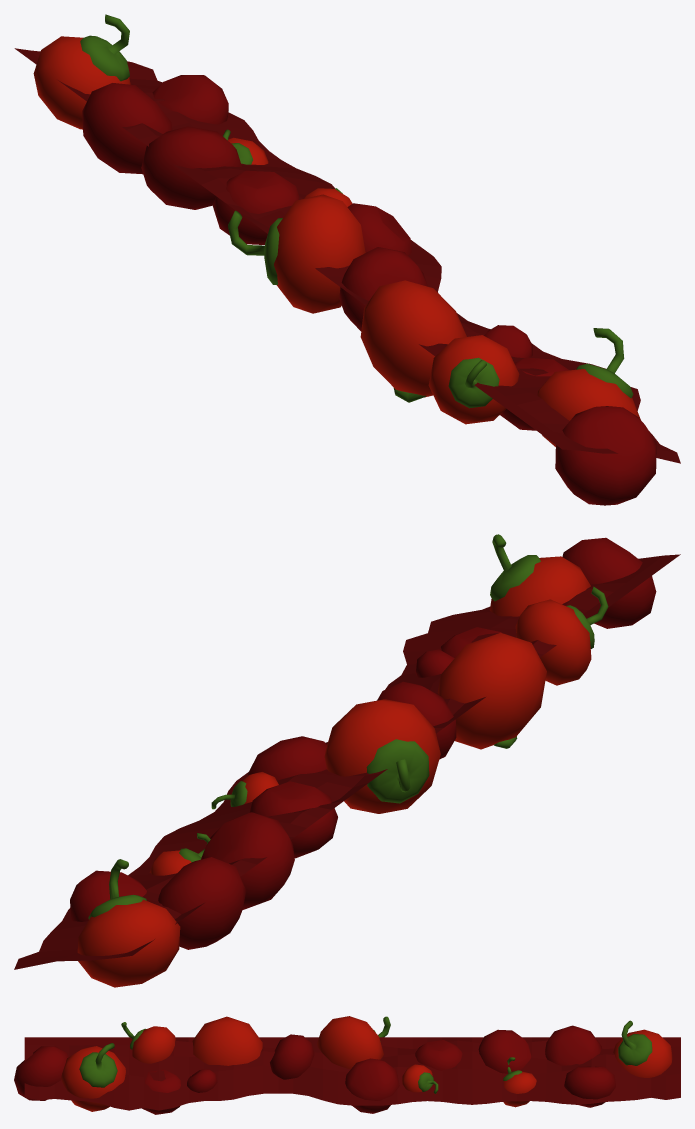
The model's file is PepperTile_PlainSide01.fbx.
3 views of the same model, one above another, from view 1: azimuth 30°, elevation 25°; view 2: azimuth 150°, elevation 25°; view 3: azimuth 270°, elevation 25° (orthographic). The views are drawn at different scales.
Visible parts, largest first — view 1: Plane; view 2: Plane; view 3: Plane.
Boxes of the visible parts, x1,y1,x2,y2 form: Plane: (14, 14, 680, 505); Plane: (14, 534, 680, 987); Plane: (14, 1016, 680, 1114).
Size of the model in its own units: 163 by 108 by 813.
2 materials, 2 textured.
